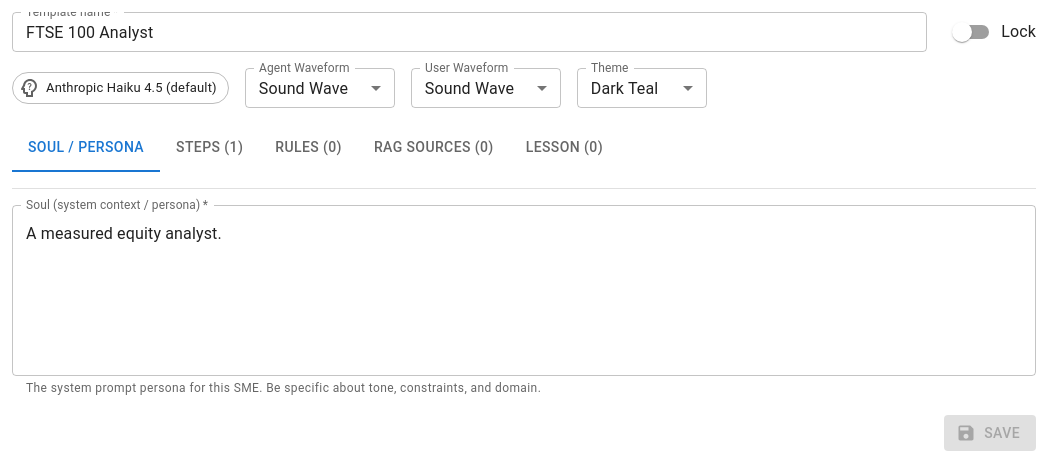
Test: SmeEditor › disables Save until the draft differs from the saved template
Expected: the button with aria-label "Save template" is disabled, [944,415,1036,451]
In the field labelled "Template name *": x=470, y=32 [12,12,927,52], type "!"
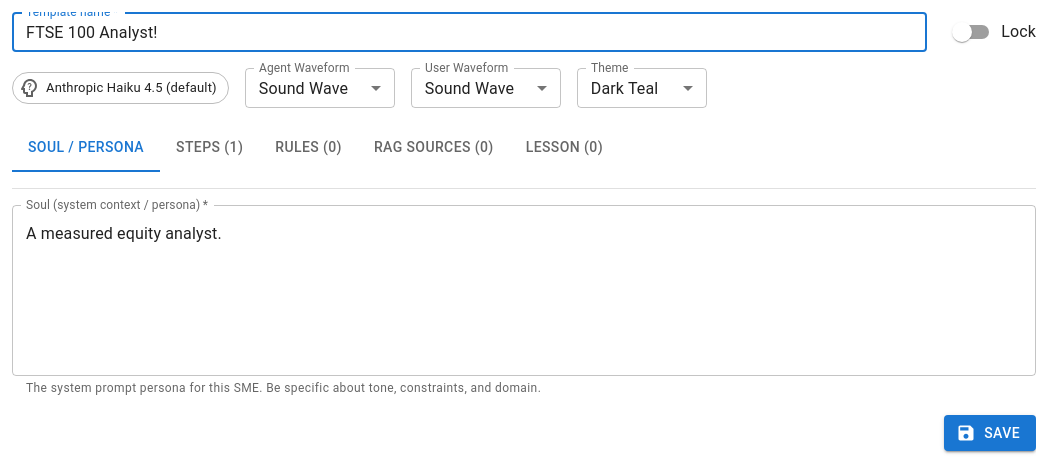
Expected: the button with aria-label "Save template" is enabled, [944,415,1036,451]
